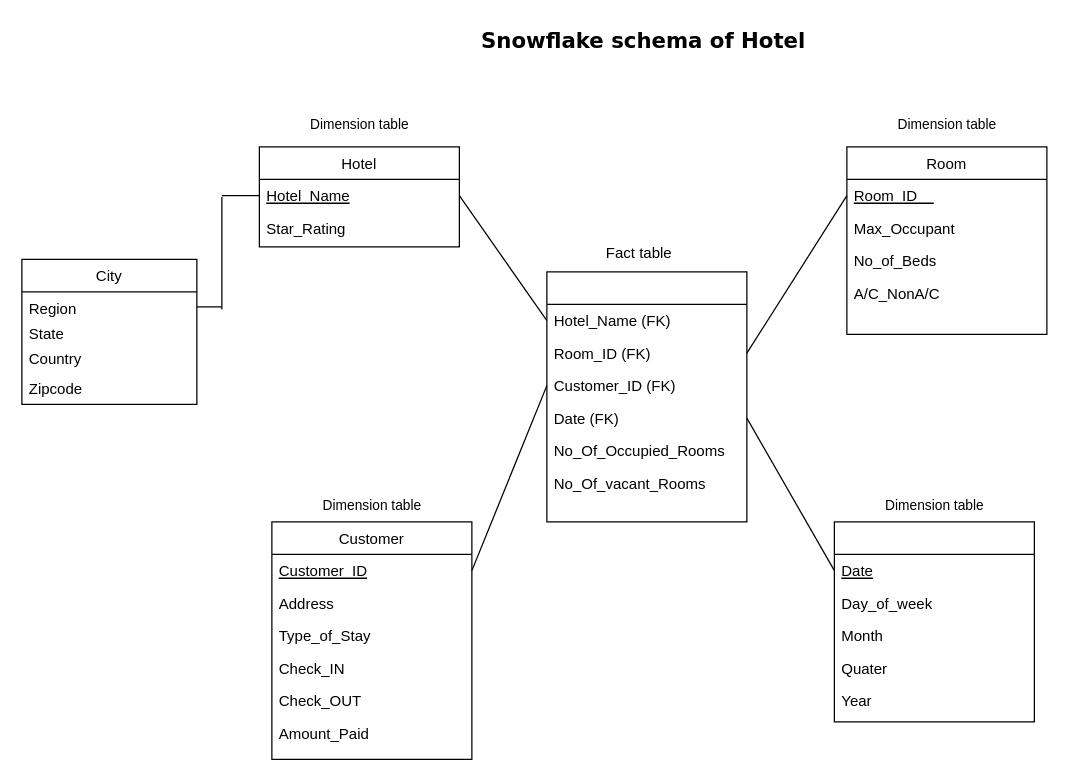
Some shapes in this 1069 by 781 pixel diagram are drawn without their labels. The box of each missing label's shape, as (x1, y1, x2, y2) in pixels:
Hotel occupancy: (546, 271, 747, 522)
Time: (833, 521, 1034, 722)
